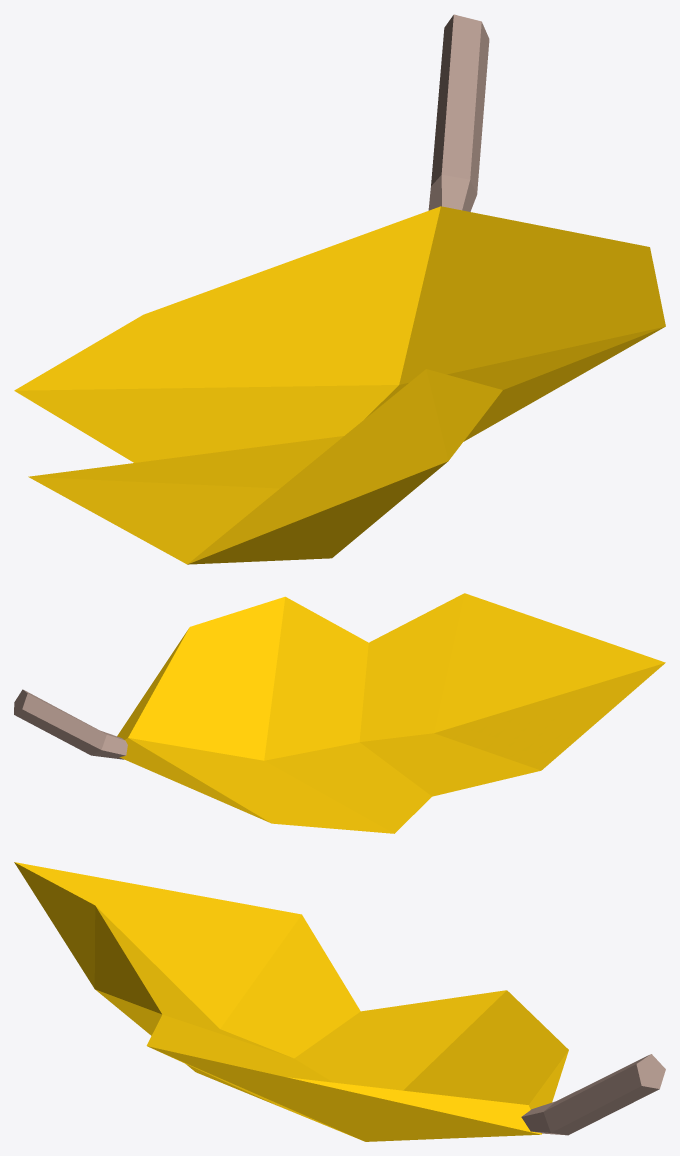
File: leaf.glb
3 renders of one model, top to bottom at view 1: azimuth 30°, elevation 25°; view 2: azimuth 150°, elevation 25°; view 3: azimuth 270°, elevation 25°, orthographic. The views are drawn at different scales.
Visible parts, largest first — view 1: group1238753348; view 2: group1238753348; view 3: group1238753348.
Boxes of the visible parts, x1,y1,x2,y2 form: group1238753348: (14,14,665,564); group1238753348: (14,593,665,833); group1238753348: (14,862,665,1141).
Size of the model in its own units: 0.1316 by 0.0408 by 0.1356.
